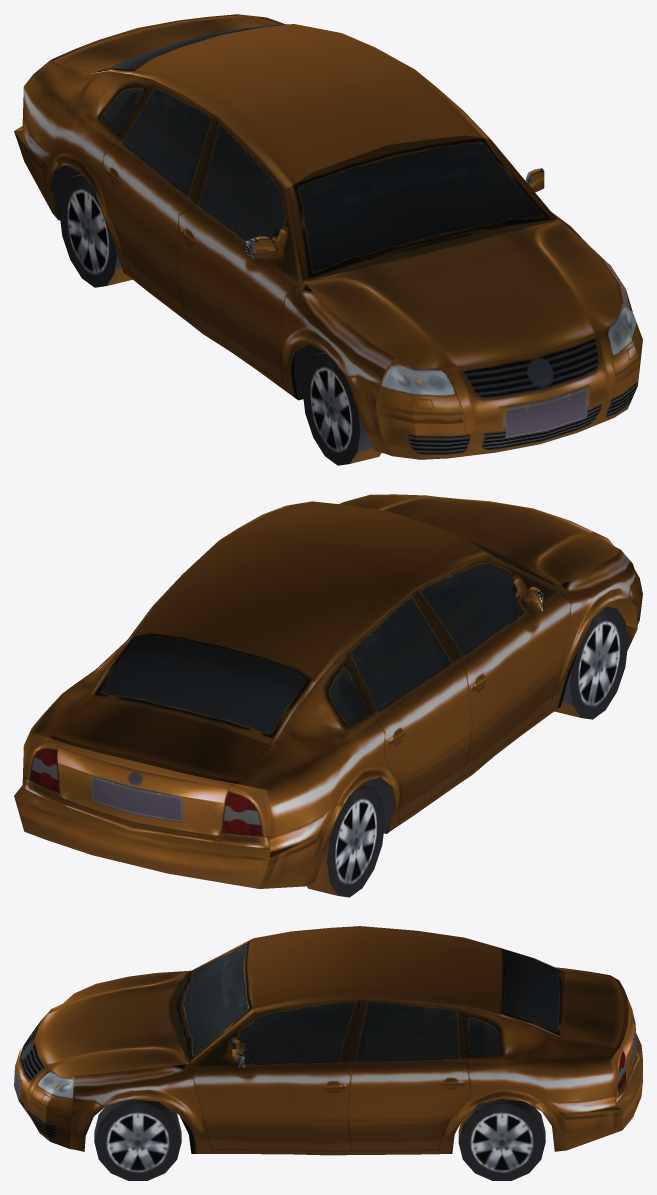
Rendered from car.glb.
The picture shows the model from 3 angles, top to bottom: view 1: azimuth 30°, elevation 25°; view 2: azimuth 150°, elevation 25°; view 3: azimuth 270°, elevation 25°; orthographic projection. The views are drawn at different scales.
Visible parts, largest first — view 1: car; view 2: car; view 3: car.
Boxes of the visible parts, box(x1,y1,x2,y2) form: car: box(14, 14, 642, 465); car: box(14, 494, 642, 897); car: box(14, 926, 642, 1180).
Bounding box in the file's own units: 1.89 × 1.5 × 4.64.
1 material, 1 textured.
